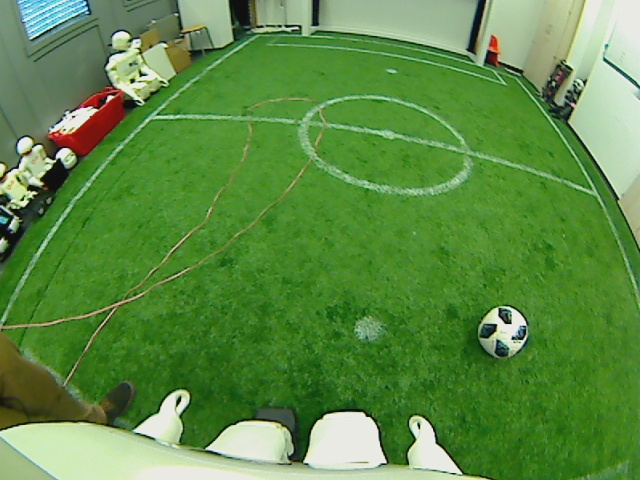ball: (476, 304, 529, 360)
